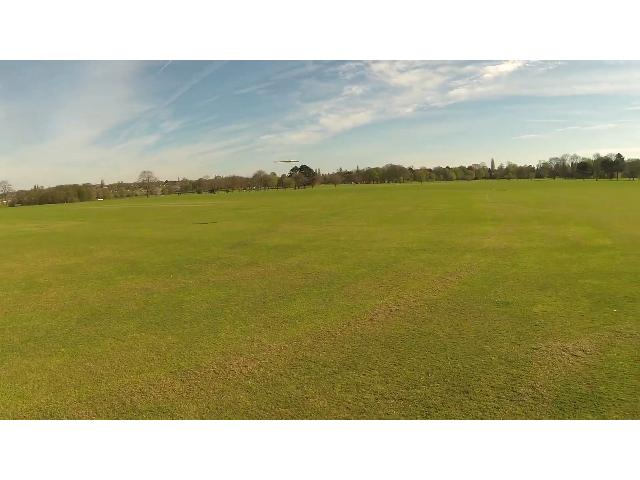Anti-Drone: (274, 157, 300, 165)
